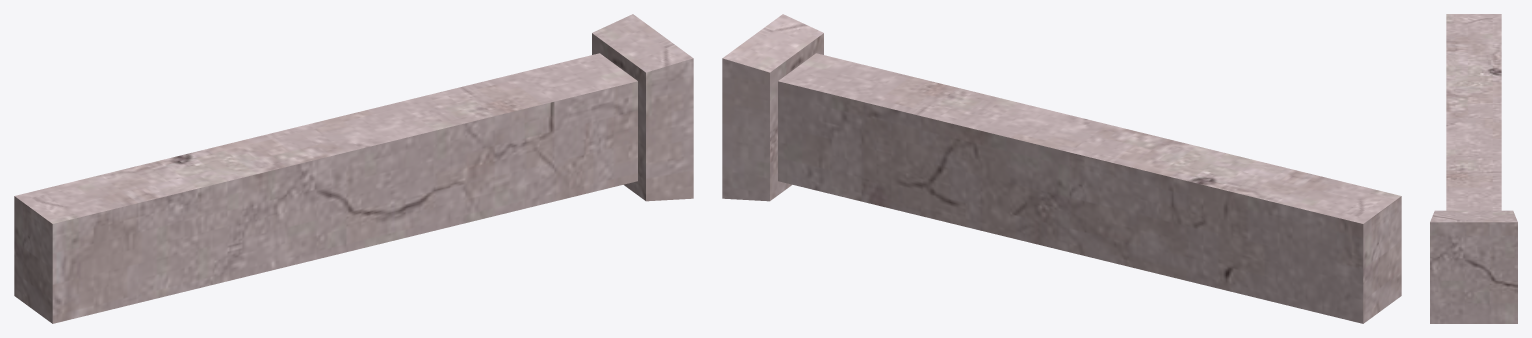
The model's file is marble_tiles_pink_45.fbx.
3 views of the same model, side by side, from view 1: azimuth 30°, elevation 25°; view 2: azimuth 150°, elevation 25°; view 3: azimuth 270°, elevation 25° (orthographic). The views are drawn at different scales.
Visible parts, largest first — view 1: marble_tiles_pink_45; view 2: marble_tiles_pink_45; view 3: marble_tiles_pink_45.
Boxes of the visible parts, x1=… form: marble_tiles_pink_45: x1=14, y1=14, x2=693, y2=323; marble_tiles_pink_45: x1=722, y1=14, x2=1401, y2=323; marble_tiles_pink_45: x1=1430, y1=14, x2=1517, y2=323.
Bounding box in the file's own units: 67.81 × 14.44 × 11.3.
